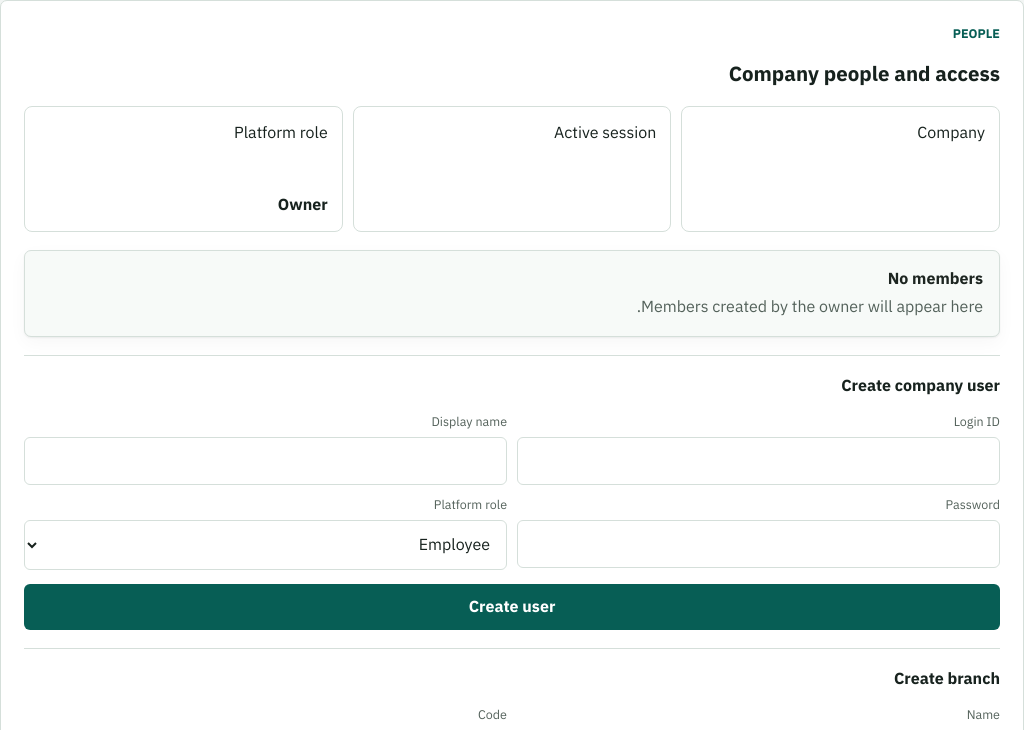
Test: owner creates users with only the selected fields (configured: false)
Type "new-employee" into the field labelled "Login ID" at (758, 461), box x1=517 y1=437 x2=1000 y2=485
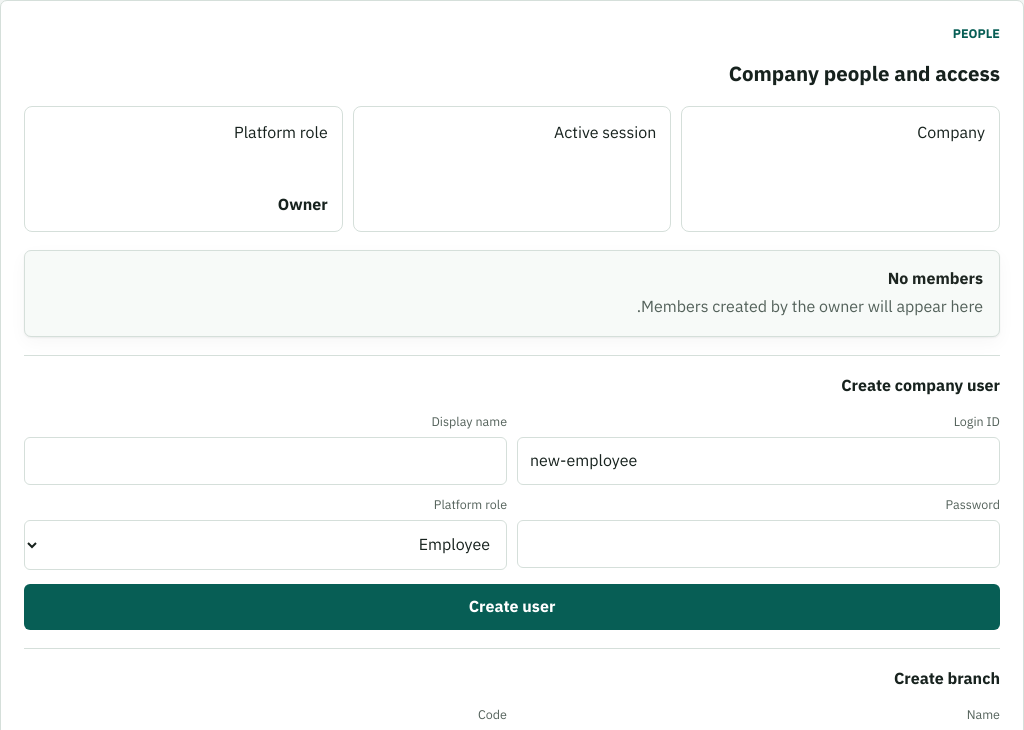
Type "New Employee" into the field labelled "Display name" at (266, 461), box x1=24 y1=437 x2=507 y2=485
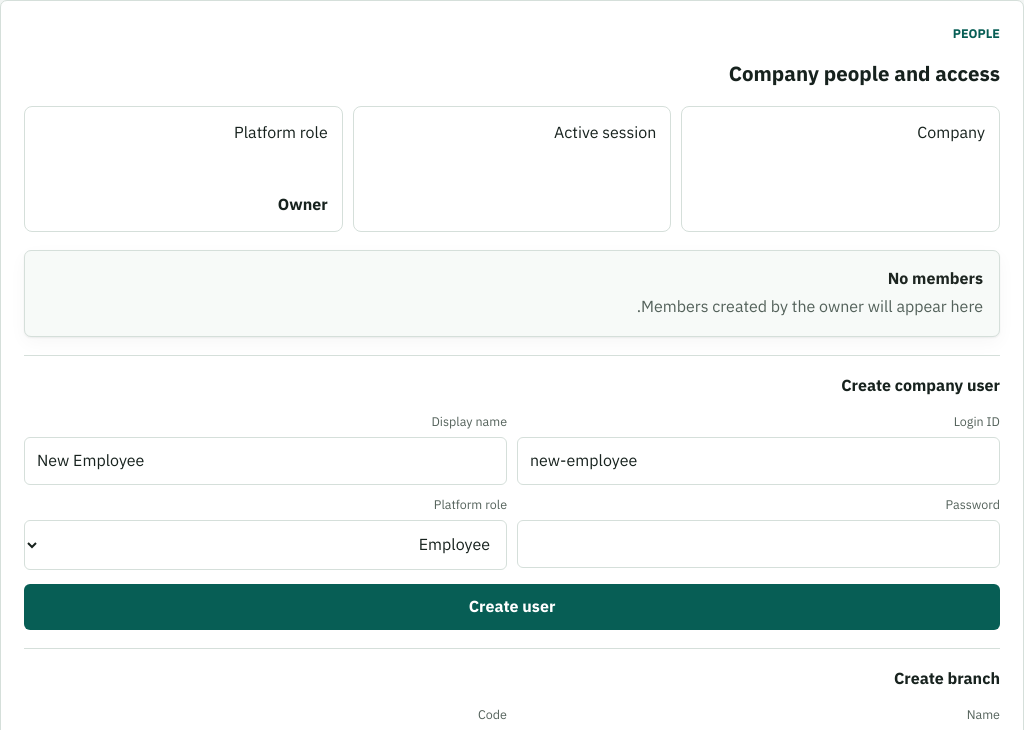
Type "Test!Password-2026" into the password field labelled "Password" at (758, 544), box x1=517 y1=520 x2=1000 y2=568
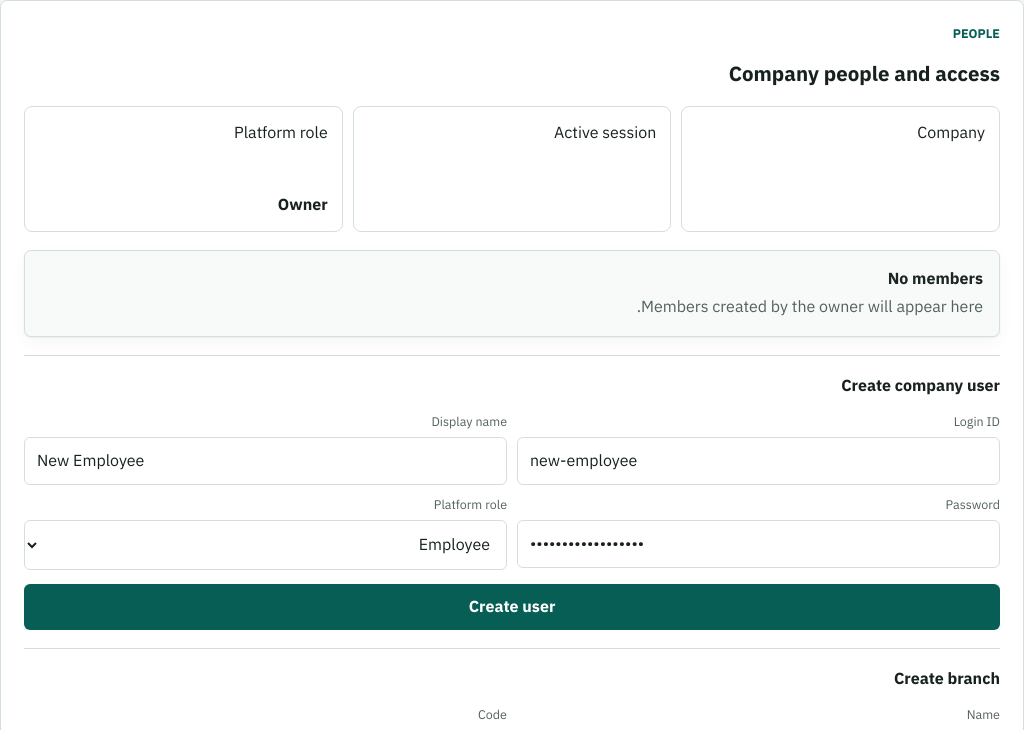
Click the button "Create user" at (512, 607), box x1=24 y1=584 x2=1000 y2=630
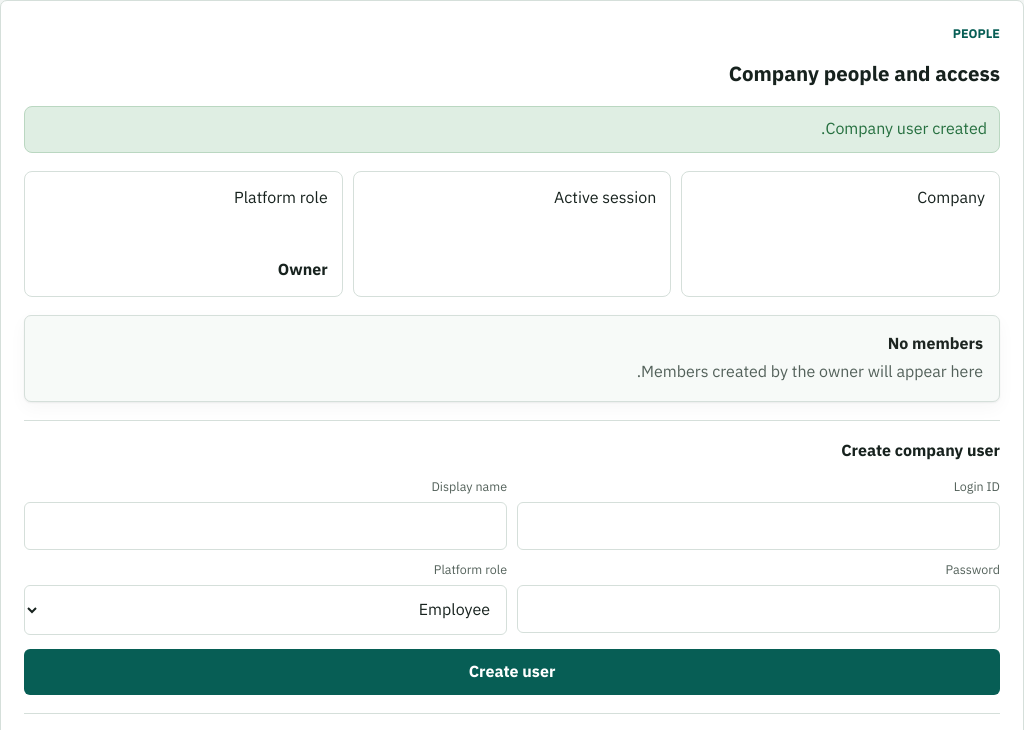
expect the text "Company user created." is shown: met, box x1=24 y1=106 x2=1000 y2=153
